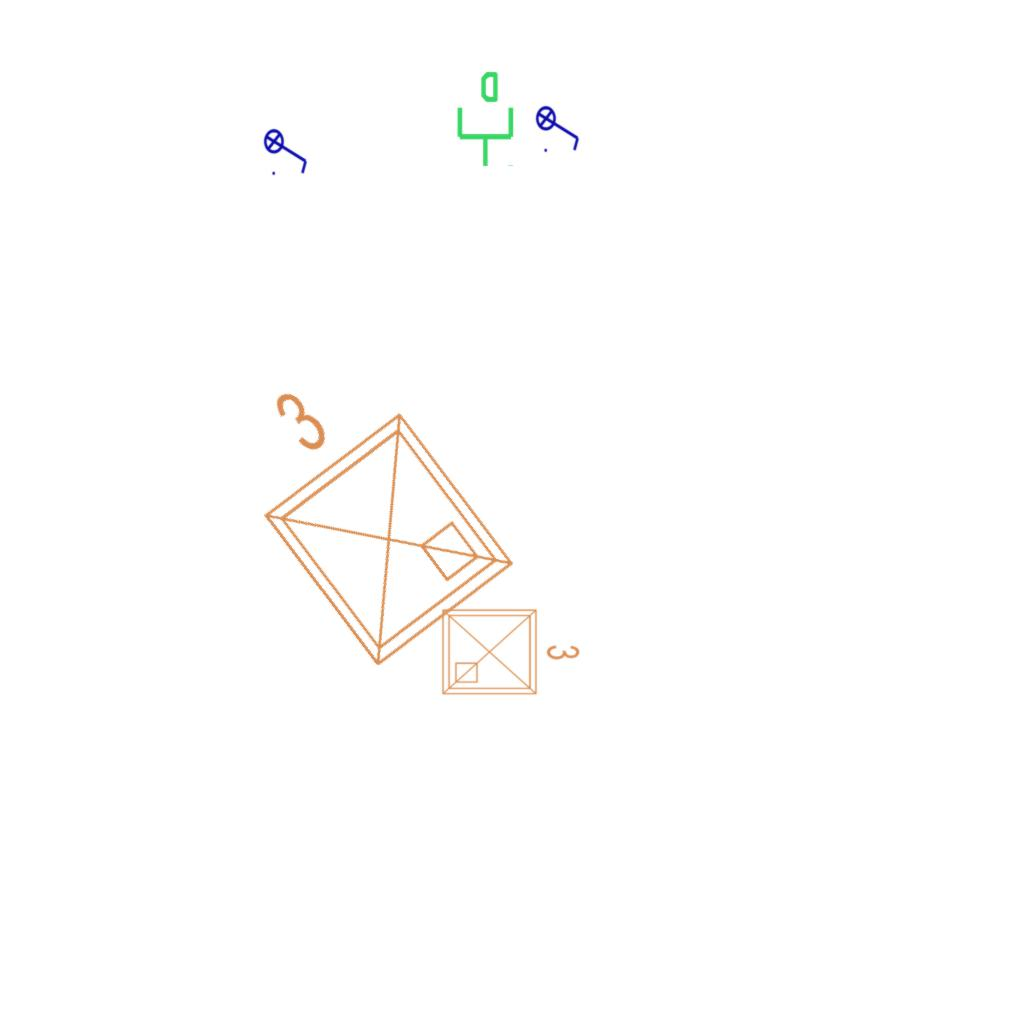Ausschalter_beleuchtet: (263, 122, 311, 178), (535, 99, 583, 155)
Datenanschluss_einfach: (449, 69, 518, 169)
Einbaudownlights_LED_Konferenzraeume: (187, 326, 535, 692), (435, 598, 585, 702)
